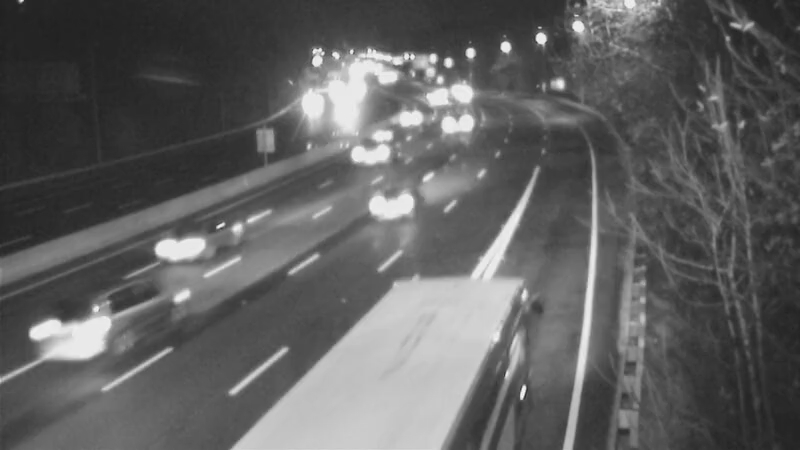vehicle: (27, 275, 137, 385), (342, 344, 452, 450), (350, 160, 430, 240), (136, 203, 216, 283), (439, 71, 489, 121), (410, 79, 460, 129), (389, 87, 439, 137), (434, 94, 484, 144), (352, 121, 402, 171), (282, 85, 332, 135)
